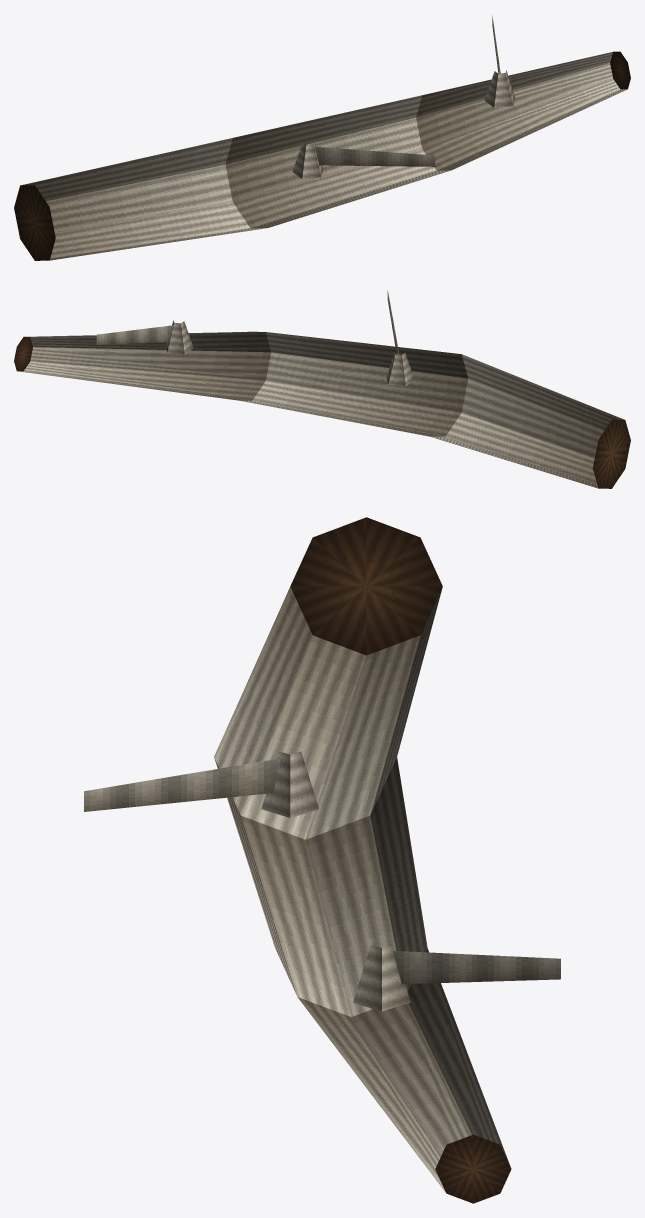
Rendered from driftwood.glb.
3 renders of one model, top to bottom at view 1: azimuth 30°, elevation 25°; view 2: azimuth 150°, elevation 25°; view 3: azimuth 270°, elevation 25°, orthographic. The views are drawn at different scales.
Visible parts, largest first — view 1: driftwood; view 2: driftwood; view 3: driftwood.
Boxes of the visible parts, x1,y1,x2,y2 form: driftwood: (14, 15, 630, 260); driftwood: (14, 290, 630, 488); driftwood: (84, 517, 560, 1203).
Bounding box in the file's own units: 1.7 × 0.24 × 0.6256.
Materials: 1 (1 with a texture image).
